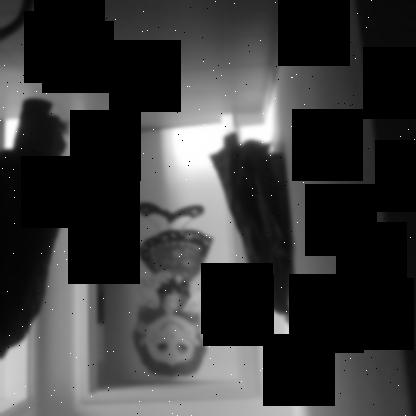Porte: (72, 110, 263, 406)
